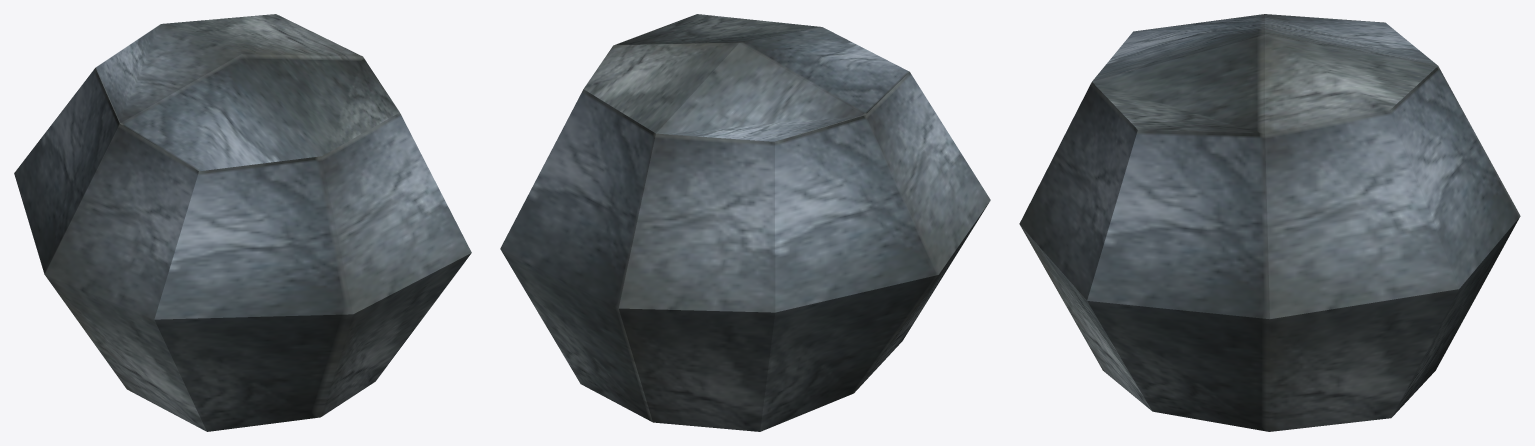
File: Galka.fbx
3 renders of one model, left to right at view 1: azimuth 30°, elevation 25°; view 2: azimuth 150°, elevation 25°; view 3: azimuth 270°, elevation 25°, orthographic. The views are drawn at different scales.
Visible parts, largest first — view 1: Cube; view 2: Cube; view 3: Cube.
Boxes of the visible parts, bbox=[...] form: Cube: bbox=[14, 14, 471, 431]; Cube: bbox=[500, 14, 990, 431]; Cube: bbox=[1019, 14, 1520, 431].
Bounding box in the file's own units: 146 × 121 × 153.
1 material, 1 textured.
